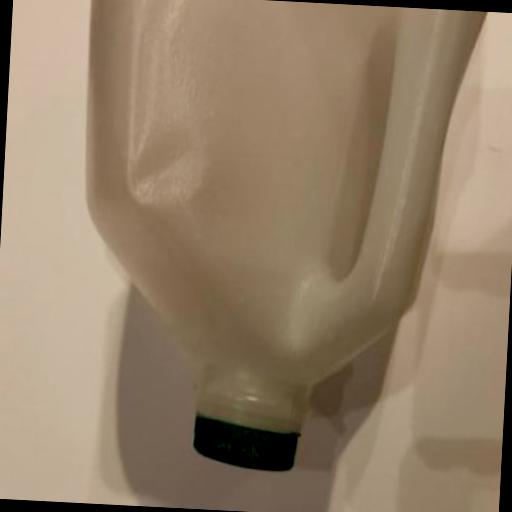plastic: (65, 0, 488, 477), (190, 410, 300, 472)
